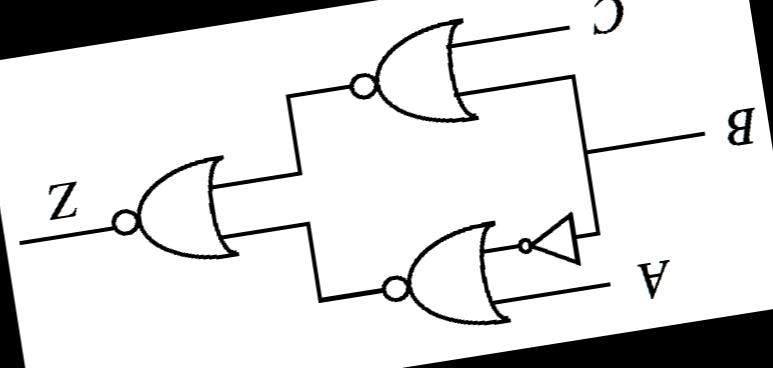nor: (314, 4, 504, 156), (88, 132, 266, 289), (352, 200, 526, 354)
not: (503, 200, 595, 282)
